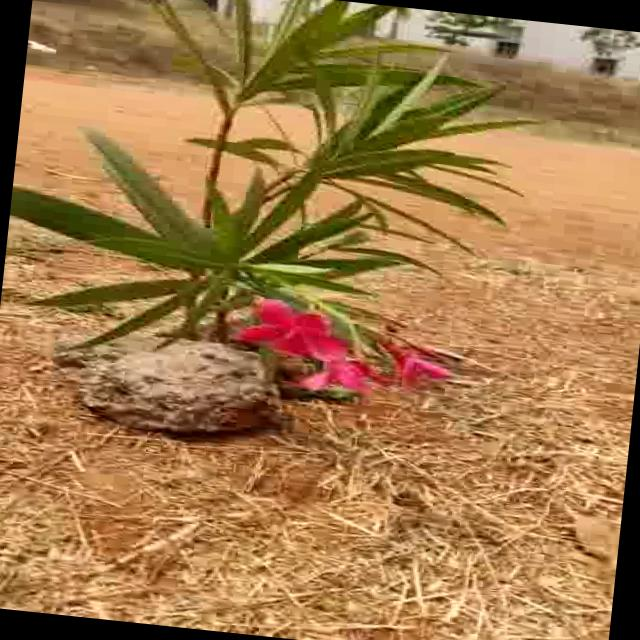OLEANDER: (0, 0, 566, 397)
